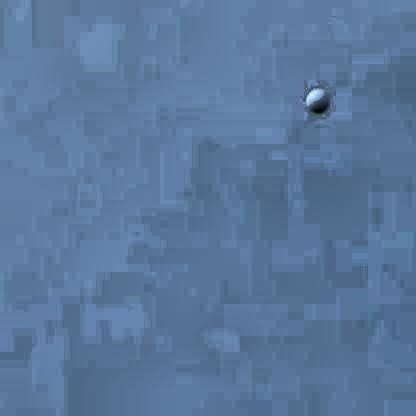golfball: (302, 80, 326, 110)
